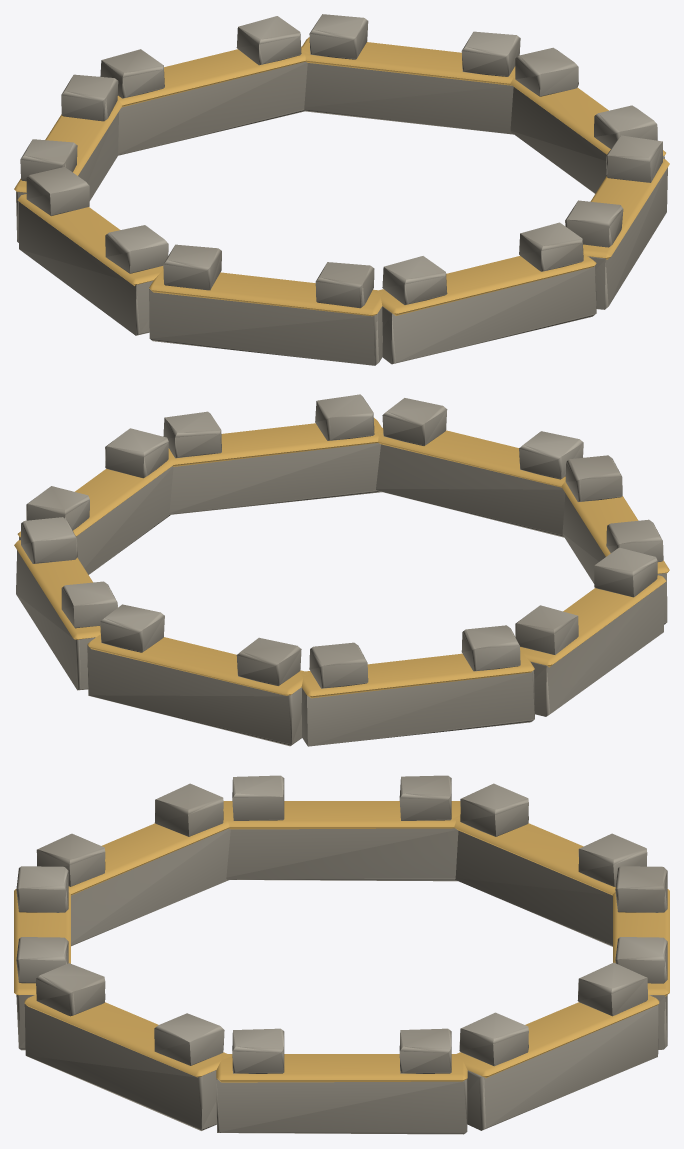
The model's file is default_ramparts.glb.
3 renders of one model, top to bottom at view 1: azimuth 30°, elevation 25°; view 2: azimuth 150°, elevation 25°; view 3: azimuth 270°, elevation 25°, orthographic. The views are drawn at different scales.
Visible parts, largest first — view 1: WoodBody, BrassTrim; view 2: WoodBody, BrassTrim; view 3: WoodBody, BrassTrim.
Part boxes in pixels (left/top/right/bottom): WoodBody: left=16, top=14, right=667, bottom=365; BrassTrim: left=14, top=37, right=669, bottom=316; WoodBody: left=16, top=394, right=667, bottom=746; BrassTrim: left=14, top=418, right=669, bottom=698; WoodBody: left=16, top=775, right=667, bottom=1134; BrassTrim: left=14, top=801, right=669, bottom=1082.
Size of the model in its own units: 0.541 by 0.08 by 0.541.
